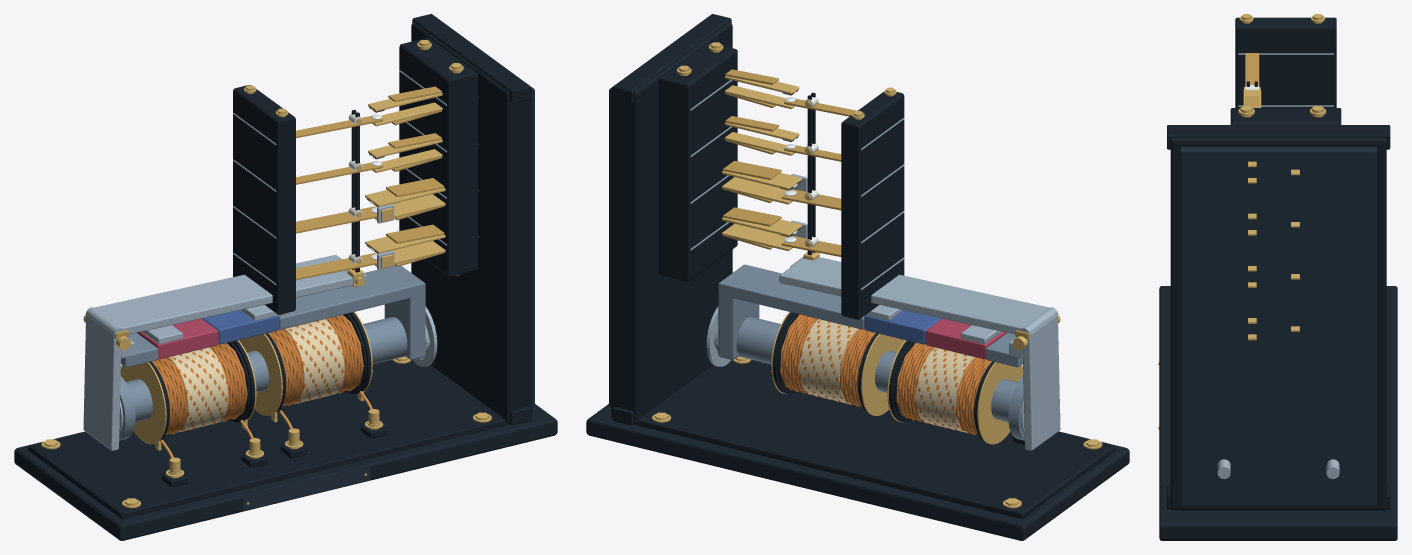
Rendered from JYJXC-220-220-dropped.glb.
The picture shows the model from 3 angles, left to right: view 1: azimuth 30°, elevation 25°; view 2: azimuth 150°, elevation 25°; view 3: azimuth 270°, elevation 25°; orthographic projection. The views are drawn at different scales.
Visible parts, largest first — view 1: base (×6), contactBlock (×2), coil (×6), armature (×2), yoke (×3), permanent (×2), core, back (×3), common (×2), front (×2), pole; view 2: base (×5), contactBlock (×2), coil (×6), armature (×2), yoke (×3), permanent (×2), core, back (×3), front (×2), pole; view 3: base (×4), contactBlock (×2), common.
Boxes of the visible parts, box(x1,y1,x2,y2) form: base (×6): box(14, 14, 557, 540); contactBlock (×2): box(233, 38, 477, 314); coil (×6): box(120, 314, 363, 444); armature (×2): box(83, 255, 364, 450); yoke (×3): box(121, 265, 425, 367); permanent (×2): box(137, 310, 279, 359); core: box(125, 317, 407, 422); back (×3): box(372, 102, 445, 266); common (×2): box(296, 206, 376, 280); front (×2): box(386, 178, 444, 243); pole: box(119, 376, 135, 440); base (×5): box(586, 14, 1129, 540); contactBlock (×2): box(659, 42, 904, 319); coil (×6): box(780, 314, 1023, 444); armature (×2): box(779, 257, 1060, 450); yoke (×3): box(718, 264, 1022, 367); permanent (×2): box(864, 310, 1006, 359); core: box(736, 317, 1018, 422); back (×3): box(722, 132, 794, 251); front (×2): box(723, 161, 781, 226); pole: box(1008, 376, 1024, 440); base (×4): box(1159, 125, 1397, 540); contactBlock (×2): box(1230, 17, 1341, 124); common: box(1245, 53, 1259, 86).
Bounding box in the file's own units: 6.05 × 4.73 × 2.55.
